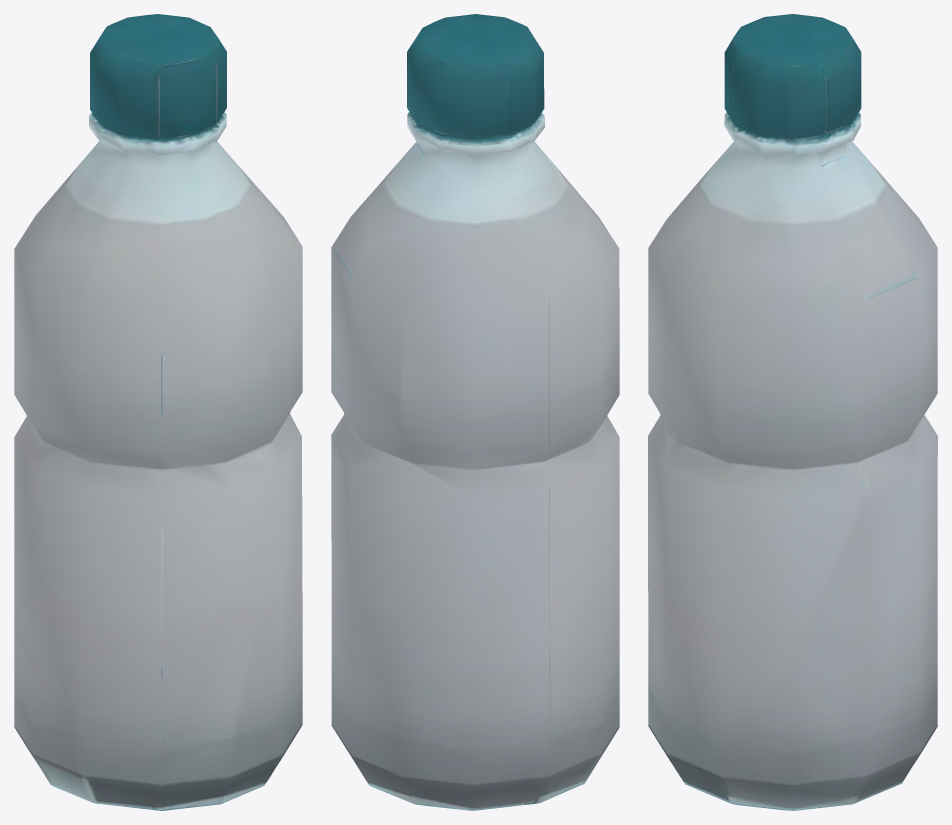
File: water_bottle.glb
3 views of the same model, side by side, from view 1: azimuth 30°, elevation 25°; view 2: azimuth 150°, elevation 25°; view 3: azimuth 270°, elevation 25° (orthographic).
Parts seen in each view (by area): view 1: Mesh1.0; view 2: Mesh1.0; view 3: Mesh1.0.
Boxes of the visible parts, x1,y1,x2,y2 form: Mesh1.0: (14, 14, 302, 810); Mesh1.0: (331, 14, 619, 810); Mesh1.0: (648, 14, 937, 810).
Size of the model in its own units: 0.6968 by 1.91 by 0.697.
1 material, 1 textured.
